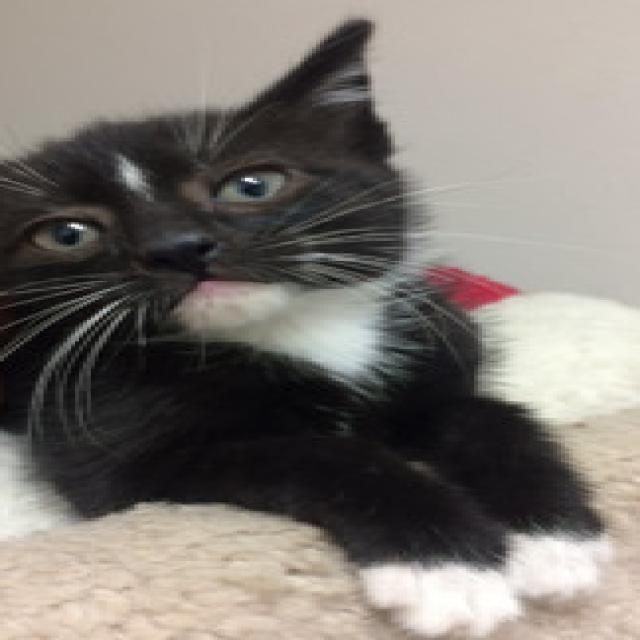Tuxedo: (0, 13, 616, 639)
